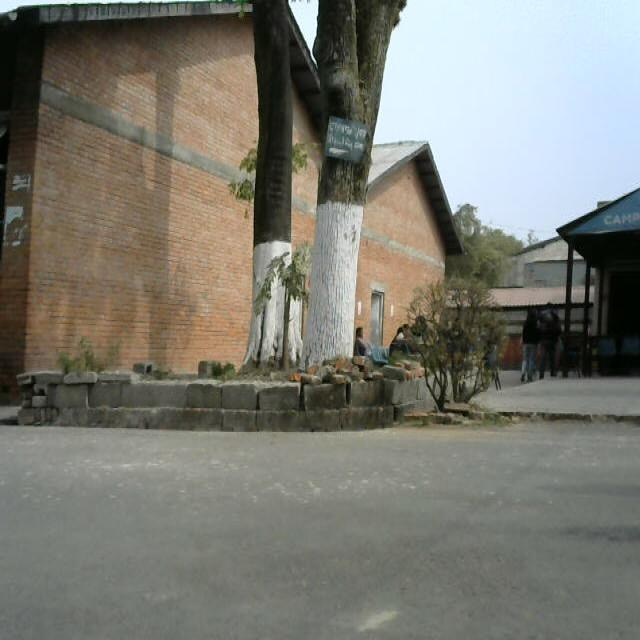Buildings: (3, 0, 266, 365), (375, 125, 473, 272)
Road: (3, 426, 640, 640)
trees: (240, 2, 386, 377), (396, 262, 516, 419)
